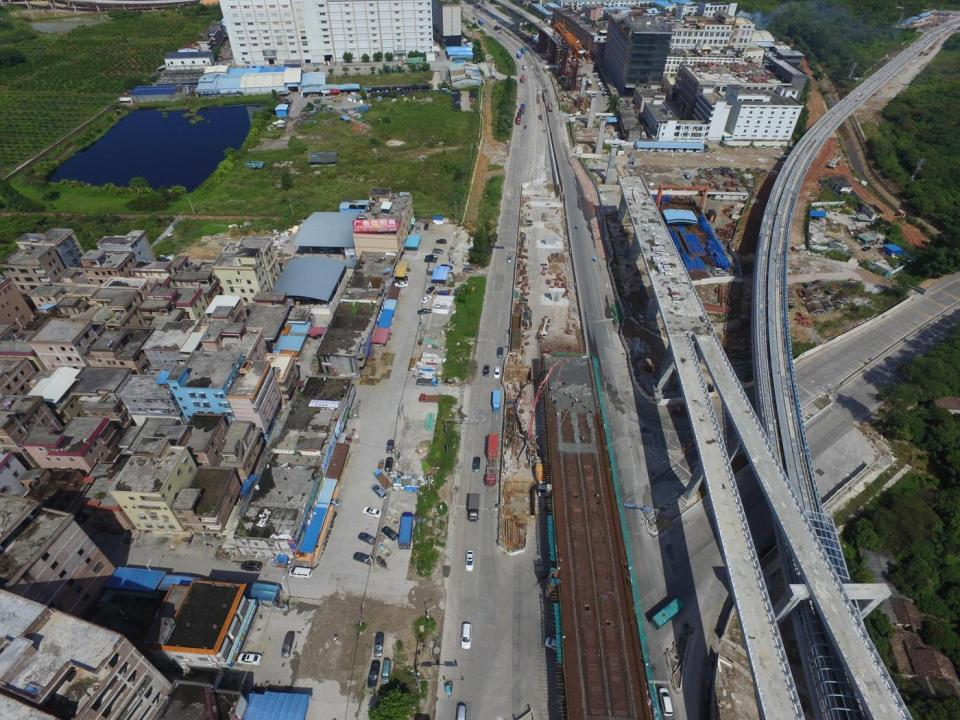bus: (649, 598, 685, 630)
car: (368, 660, 380, 688), (660, 688, 672, 716), (460, 622, 471, 650), (240, 559, 262, 572), (352, 551, 371, 565), (237, 653, 261, 664), (545, 639, 565, 652), (370, 484, 386, 500), (381, 526, 399, 540), (359, 531, 375, 546), (363, 507, 381, 518), (374, 633, 382, 657), (465, 550, 473, 572), (455, 704, 466, 720), (472, 456, 480, 472), (384, 457, 393, 470), (328, 498, 341, 507), (482, 364, 490, 376), (462, 266, 474, 274), (386, 440, 394, 452), (421, 296, 432, 304), (494, 366, 500, 379), (440, 264, 453, 270), (426, 286, 434, 295), (432, 248, 444, 254), (394, 283, 408, 288), (496, 346, 502, 357), (436, 238, 446, 244), (508, 255, 512, 264), (416, 226, 420, 232), (523, 125, 526, 129), (530, 65, 533, 69), (522, 66, 526, 69)
truck: (486, 433, 498, 486), (398, 510, 414, 549), (374, 470, 392, 489), (468, 494, 479, 523), (419, 393, 442, 403), (416, 377, 438, 386), (492, 390, 500, 412), (417, 308, 433, 314), (425, 255, 438, 260), (494, 25, 502, 33), (422, 258, 437, 262), (548, 101, 553, 112), (455, 59, 466, 64), (516, 112, 520, 125), (520, 103, 524, 114), (516, 51, 521, 59), (520, 75, 524, 83), (521, 48, 526, 54), (478, 20, 483, 26)
van: (280, 632, 294, 657), (287, 565, 312, 577), (382, 660, 391, 684), (352, 409, 358, 419), (612, 132, 620, 136)
